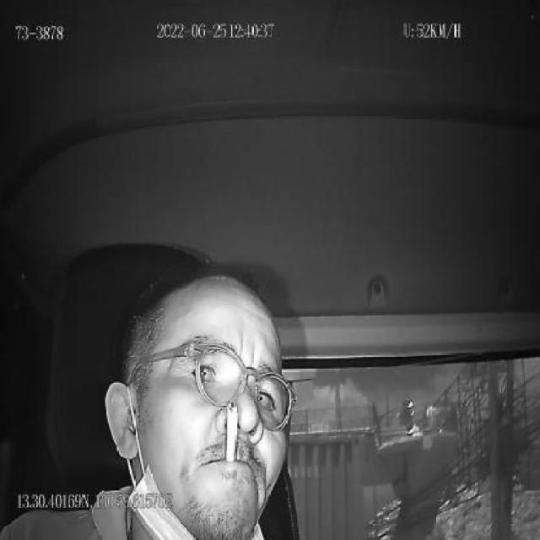smoking: (224, 399, 239, 463)
